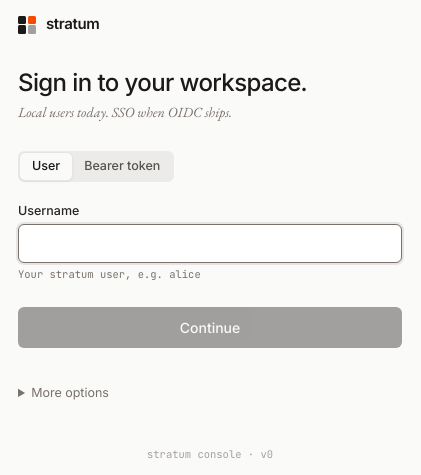
LoginScreen — submit gating › enables Continue once the user types
The image size is (421, 475).
Type "alice" into the field labelled "Username" at (210, 244), box [18,224,402,263]
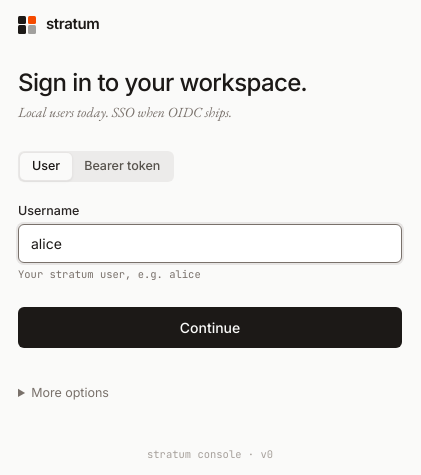
Now the button "Continue" is enabled, box [18,307,402,348]
